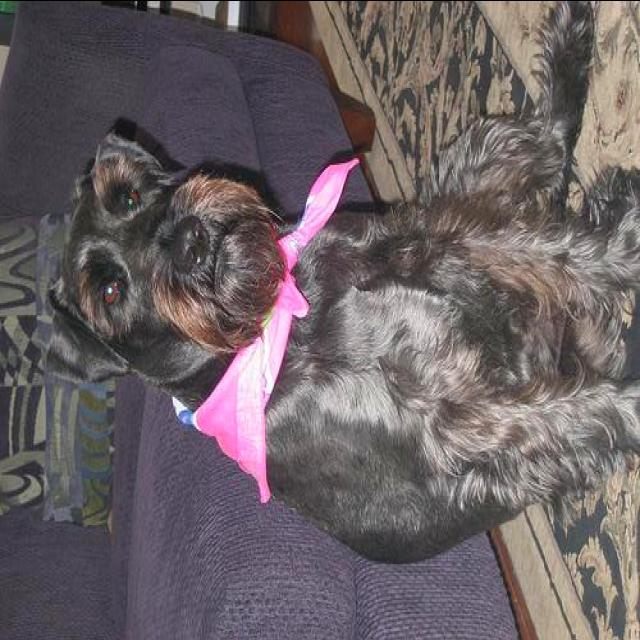standard_schnauzer: (44, 4, 636, 568)
